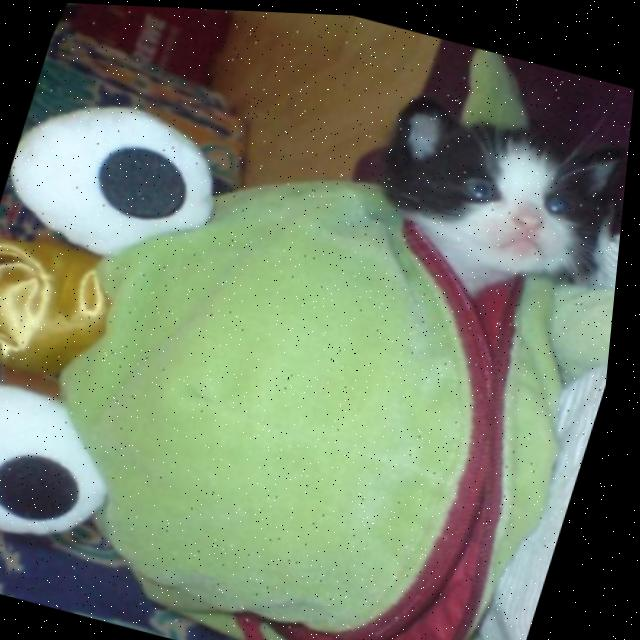Cats: (305, 38, 638, 367)
